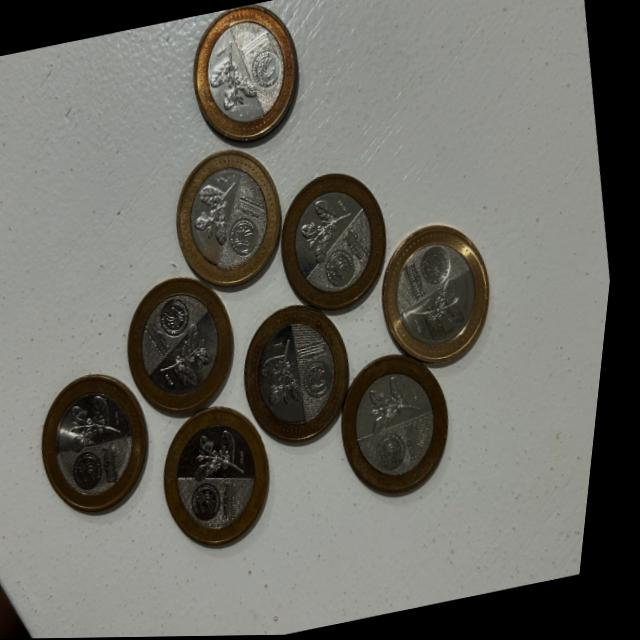20_New_Back: (259, 327, 321, 418), (190, 424, 263, 498), (202, 36, 265, 117), (156, 328, 229, 396), (410, 278, 482, 346), (301, 194, 365, 269), (364, 373, 436, 437), (67, 391, 137, 453), (189, 181, 250, 248)
